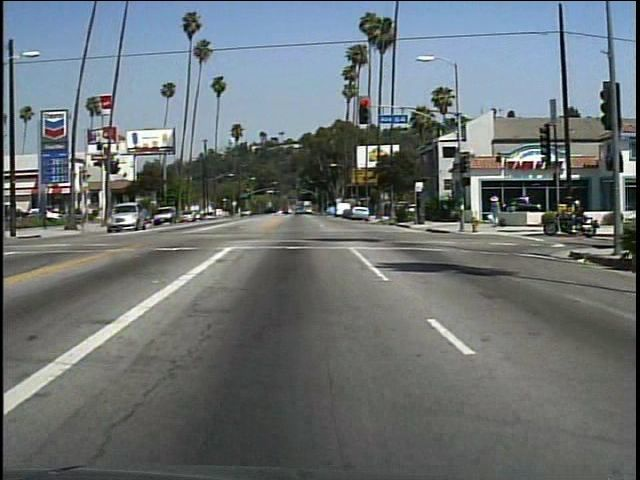person: (562, 194, 586, 237), (488, 191, 505, 228)
